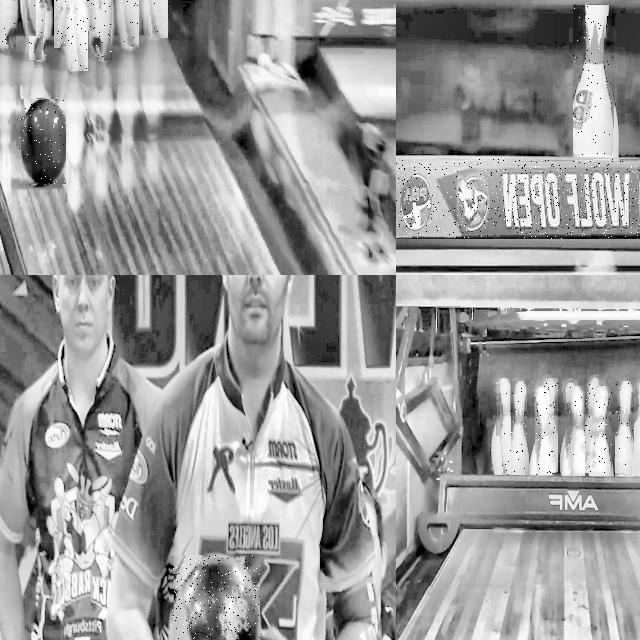bowling-ball: (172, 555, 260, 640), (19, 99, 65, 184)
bowling-pins: (573, 5, 613, 155), (589, 387, 612, 473), (535, 386, 553, 475), (616, 382, 632, 475), (510, 381, 526, 474), (569, 387, 584, 475), (90, 0, 111, 58), (585, 378, 599, 459), (545, 379, 557, 472), (71, 0, 87, 69), (29, 0, 47, 58), (499, 378, 509, 473), (121, 0, 139, 47), (147, 0, 167, 37), (24, 0, 36, 36), (636, 382, 640, 473), (500, 418, 501, 419)
sweep board: (396, 162, 640, 239), (417, 475, 640, 553)
